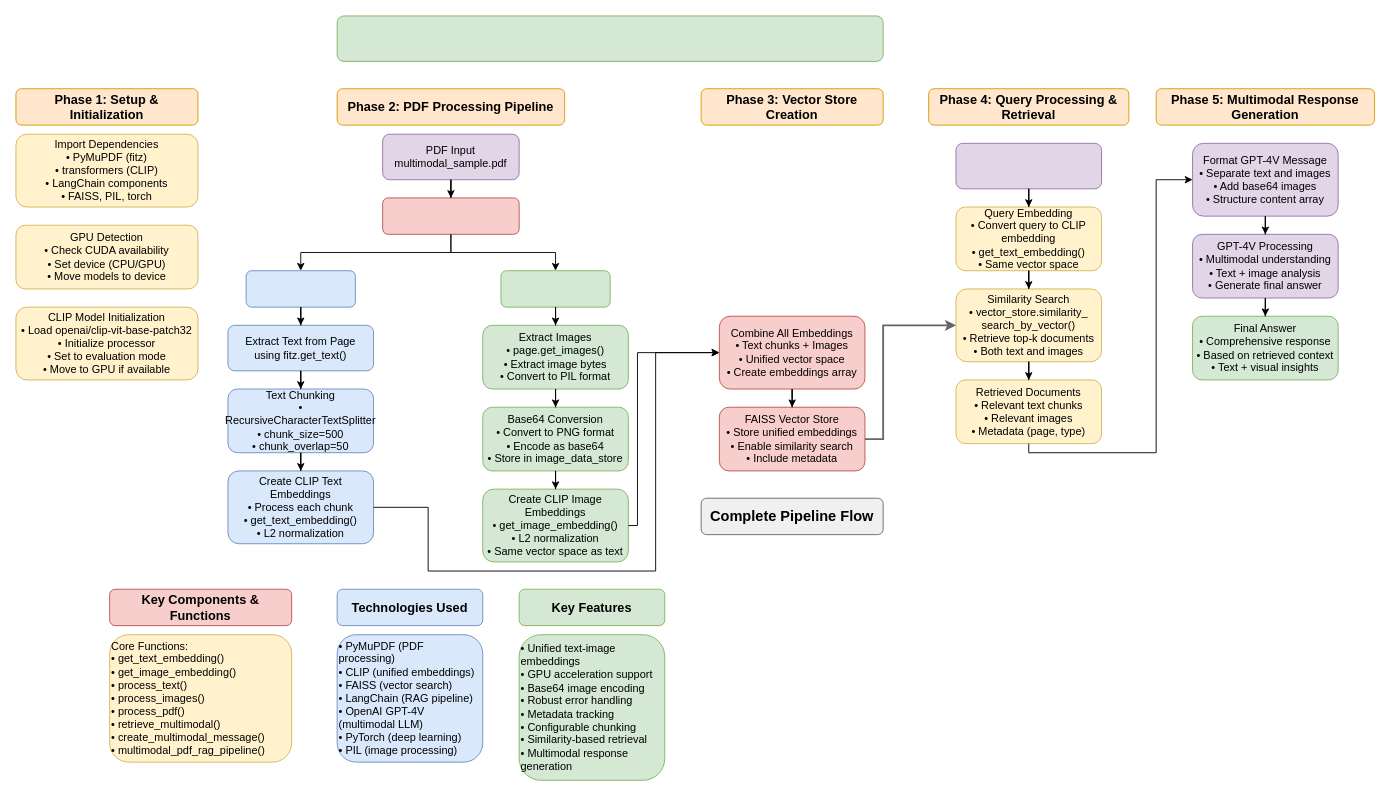
The diagram is 1390 pixels wide and 796 high, and some of its shapes have lost their labels. Here are the shapes that lost their labels. From the top down, the centre of each, then its label:
point 609,38: Multimodal RAG Pipeline - PDF Processing with Text and Images
point 1028,165: User Query "What does the chart show?"
point 450,215: Process Each Page
point 300,288: Text Processing
point 555,288: Image Processing
